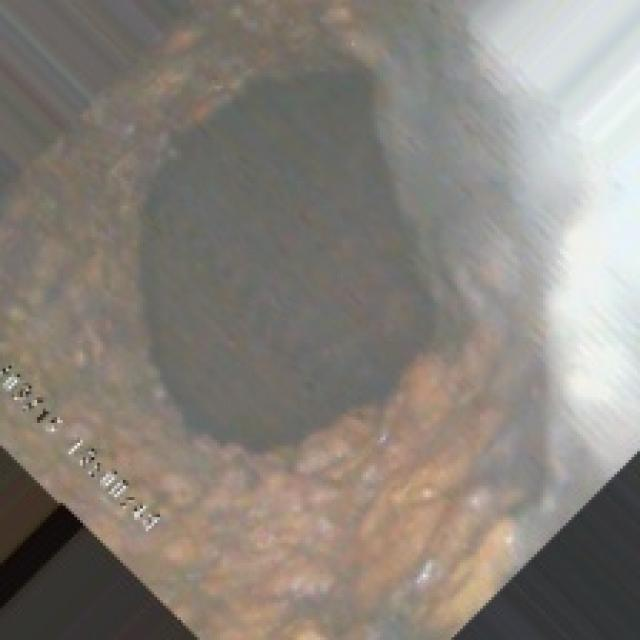encrustation: (126, 60, 448, 449)
